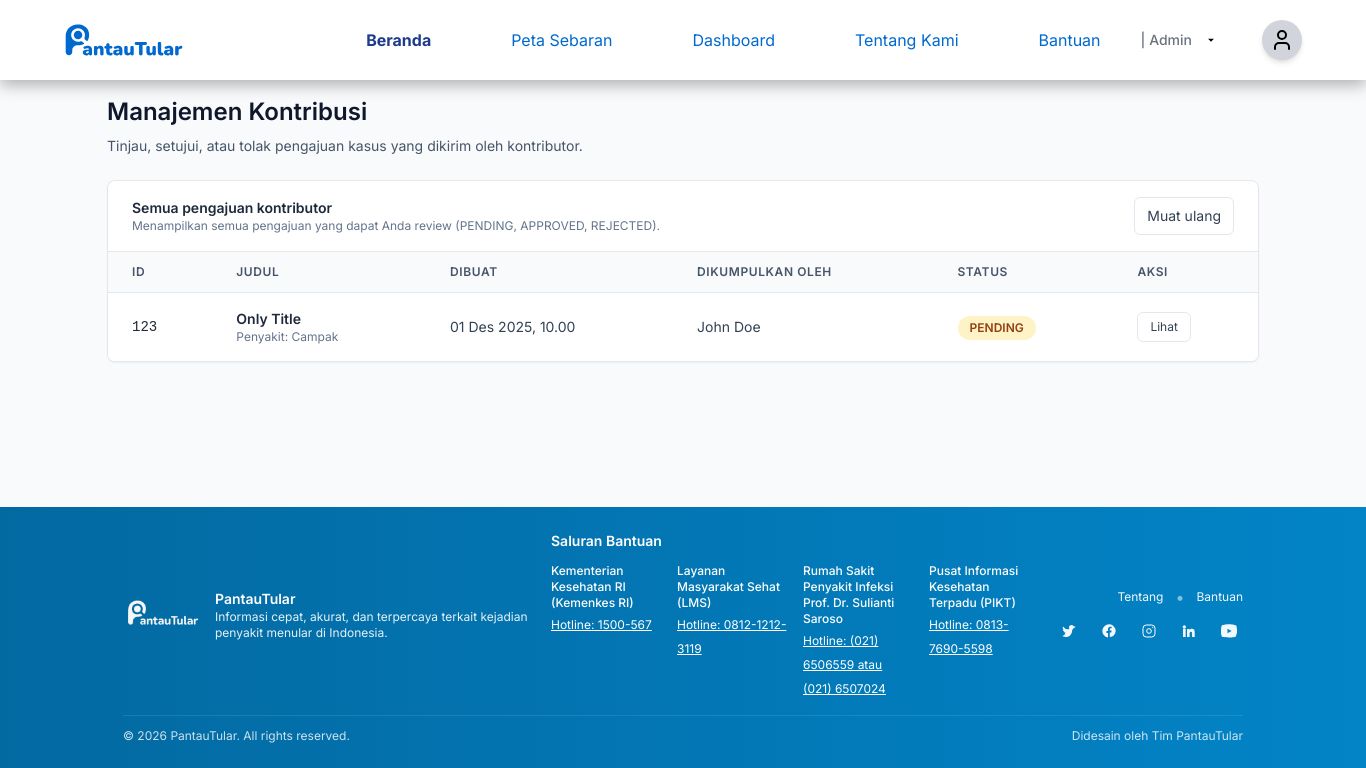
Test case: ContributionManagementPage › view modal handles minimal news fields
Expected: the text "123" is shown, top-left (108, 292), bottom-right (212, 361)
Click the button "Lihat" at (1164, 327), box top-left (1137, 312), bottom-right (1191, 342)
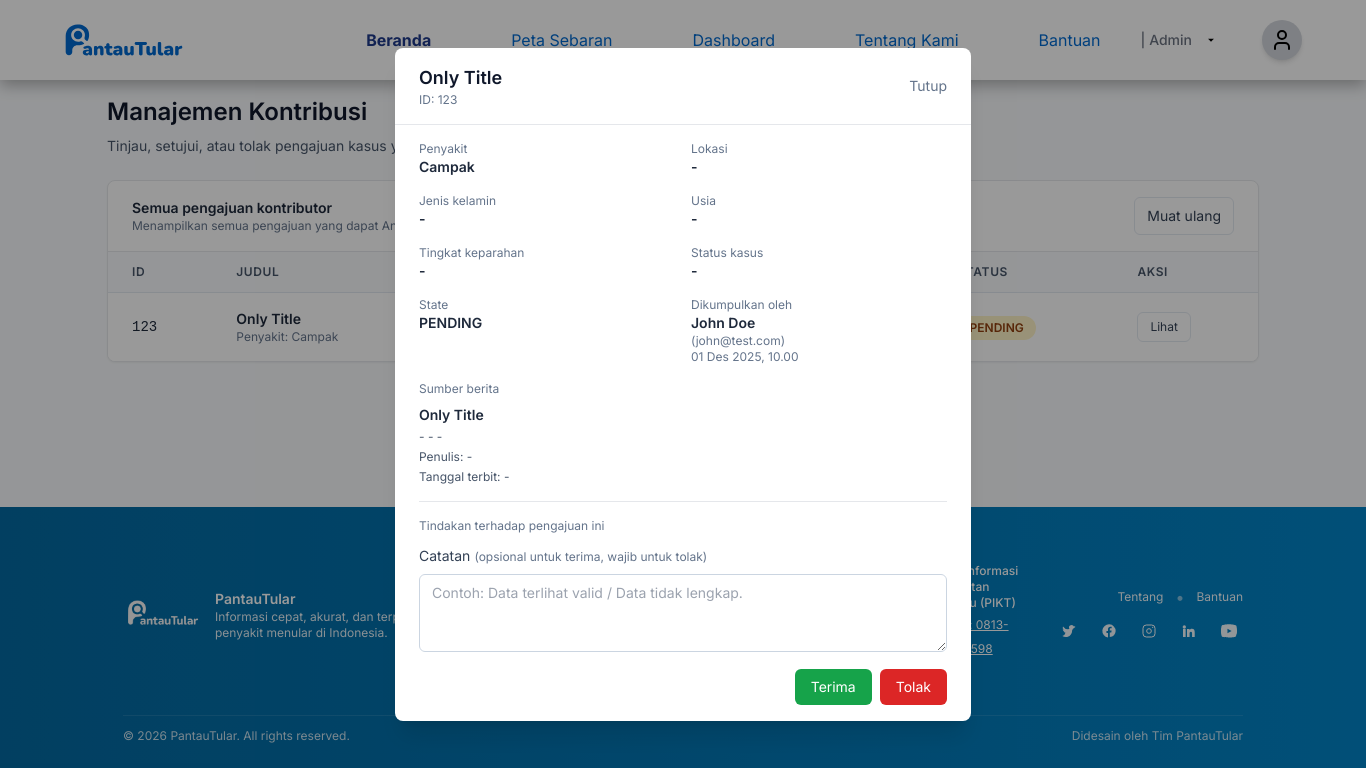
Now the heading "Only Title" is shown, box top-left (419, 64), bottom-right (502, 92)
